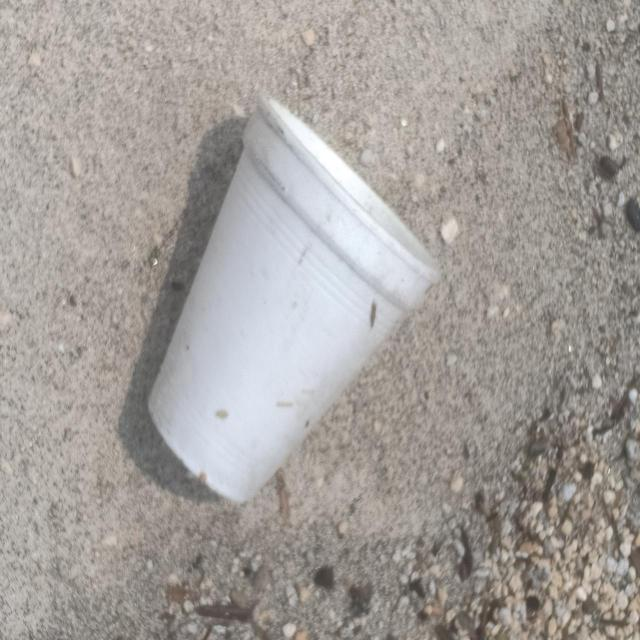styrofoam_waste: (146, 89, 445, 507)
